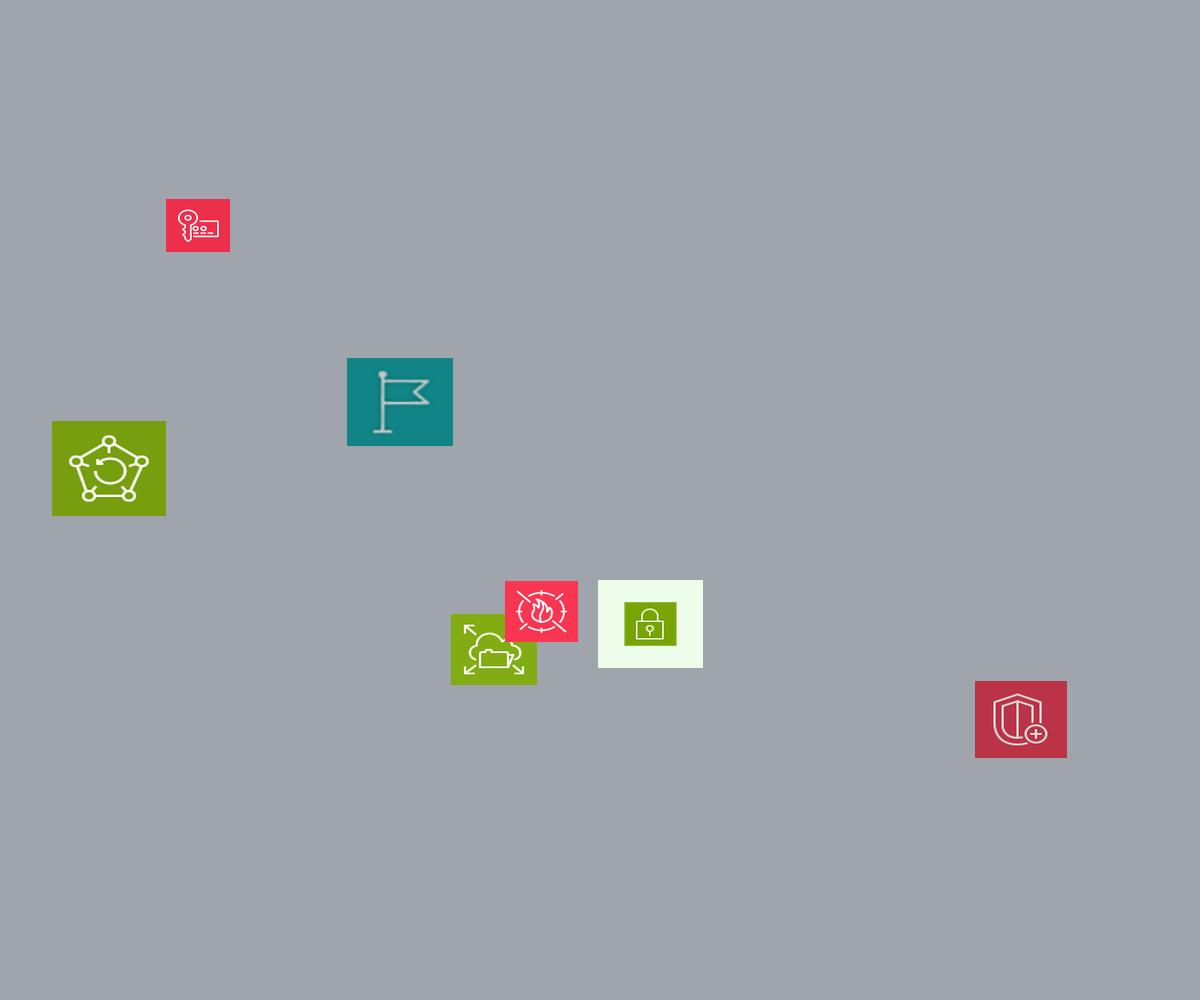AWS-Backup: (52, 421, 166, 516)
AWS-EFS: (451, 614, 537, 685)
AWS-Key-Management-Service: (166, 199, 230, 252)
AWS-Public-subnet: (598, 580, 703, 668)
AWS-Region: (347, 358, 453, 446)
AWS-Shield: (975, 681, 1067, 758)
AWS-WAF: (505, 581, 578, 642)
